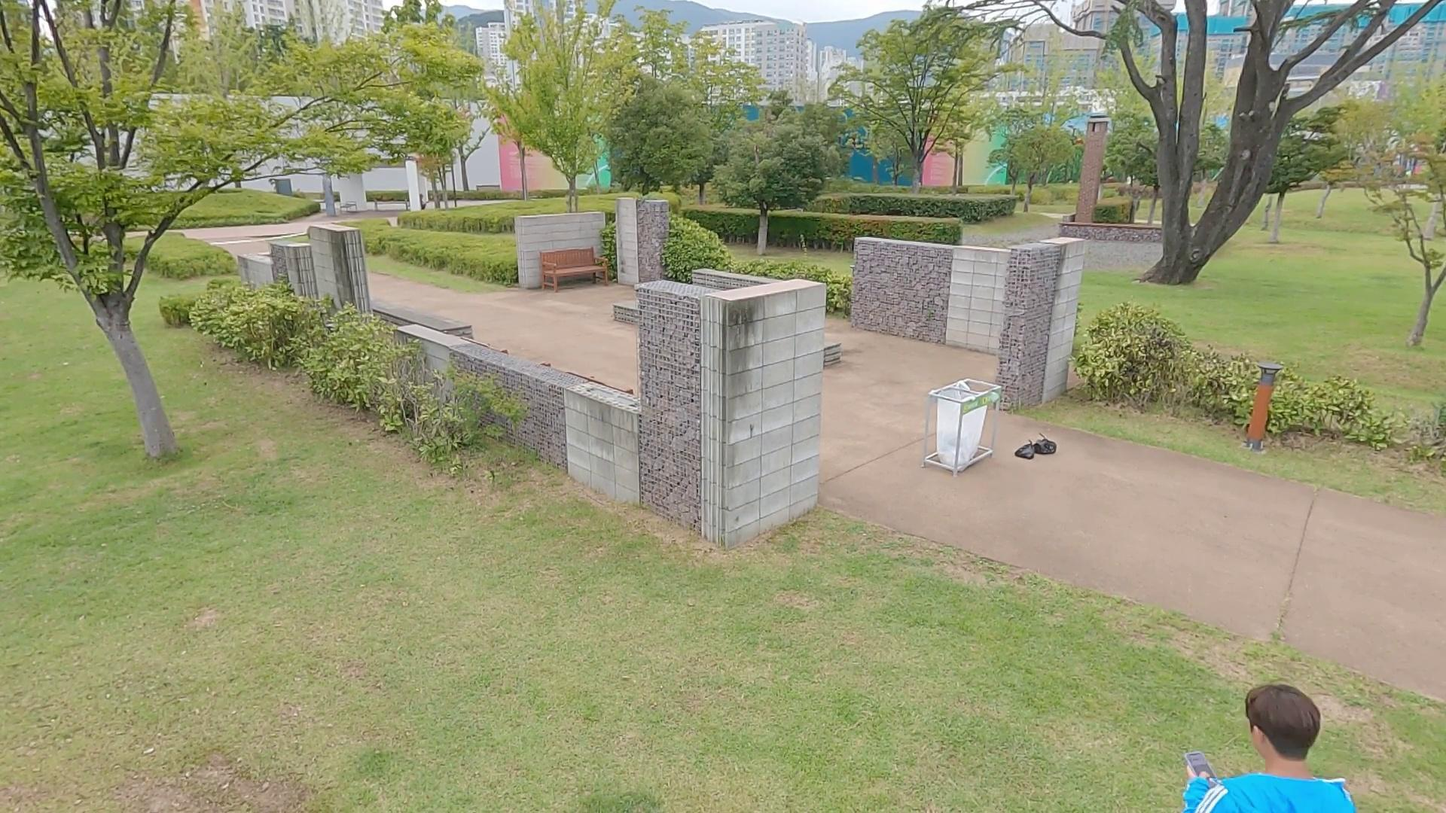person: (1163, 679, 1384, 813)
trash: (1009, 438, 1040, 463), (1037, 434, 1058, 458)
